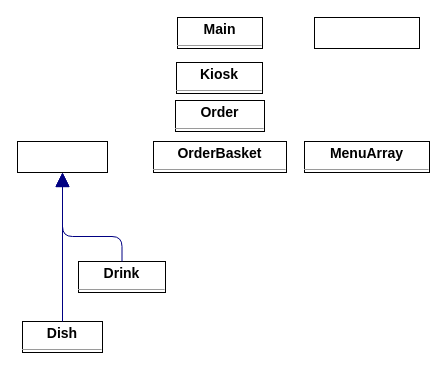
Image size: 447x370. Some labels were removed from this diagram. Here are the shapes that lost their labels. From the top down, the box of each, then its label:
(314, 16, 420, 48): Loading
(16, 140, 108, 172): Menu
